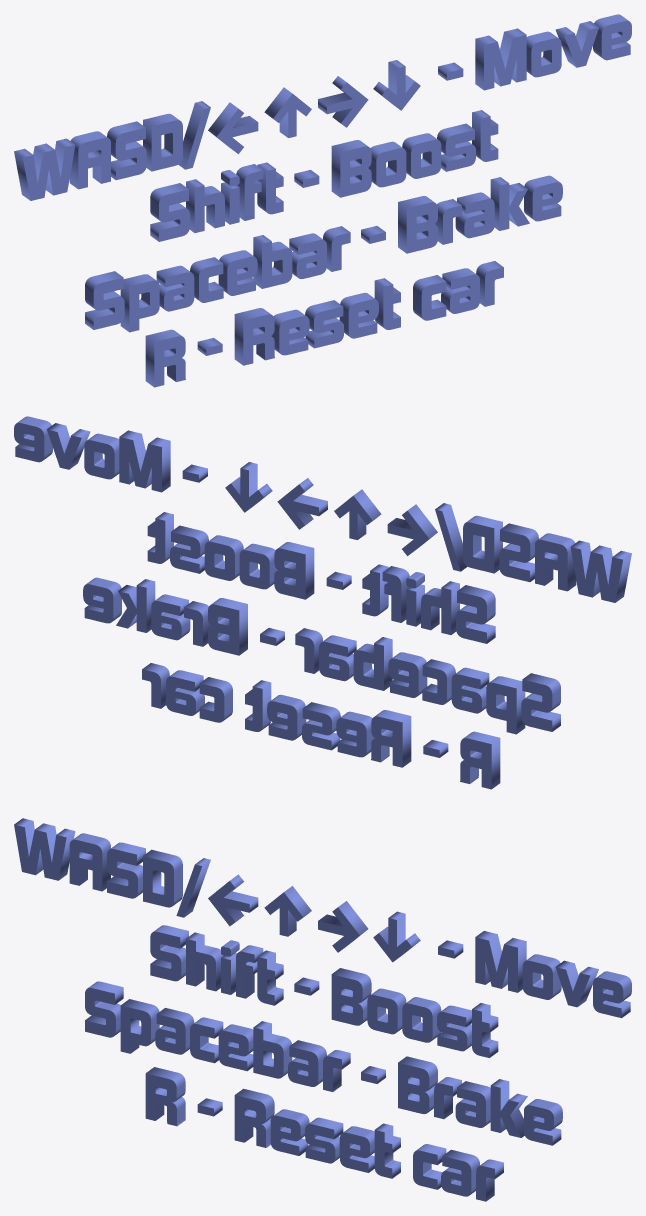
Rendered from controlInstructions.glb.
3 views of the same model, one above another, from view 1: azimuth 30°, elevation 25°; view 2: azimuth 150°, elevation 25°; view 3: azimuth 330°, elevation 25° (orthographic).
Visible parts, largest first — view 1: Text; view 2: Text; view 3: Text.
Boxes of the visible parts, x1,y1,x2,y2 form: Text: (14, 14, 631, 387); Text: (14, 416, 631, 789); Text: (14, 818, 631, 1201).
Size of the model in its own units: 5.1 by 2.13 by 0.127.
